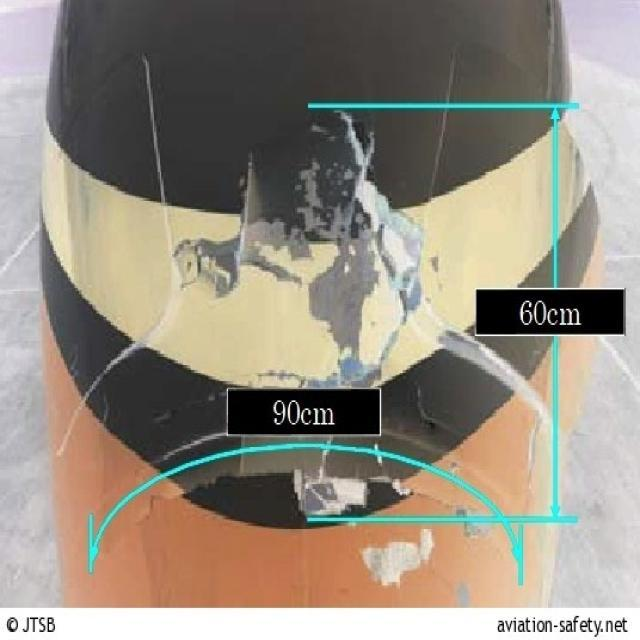crack: (340, 113, 548, 420), (216, 147, 265, 300)
